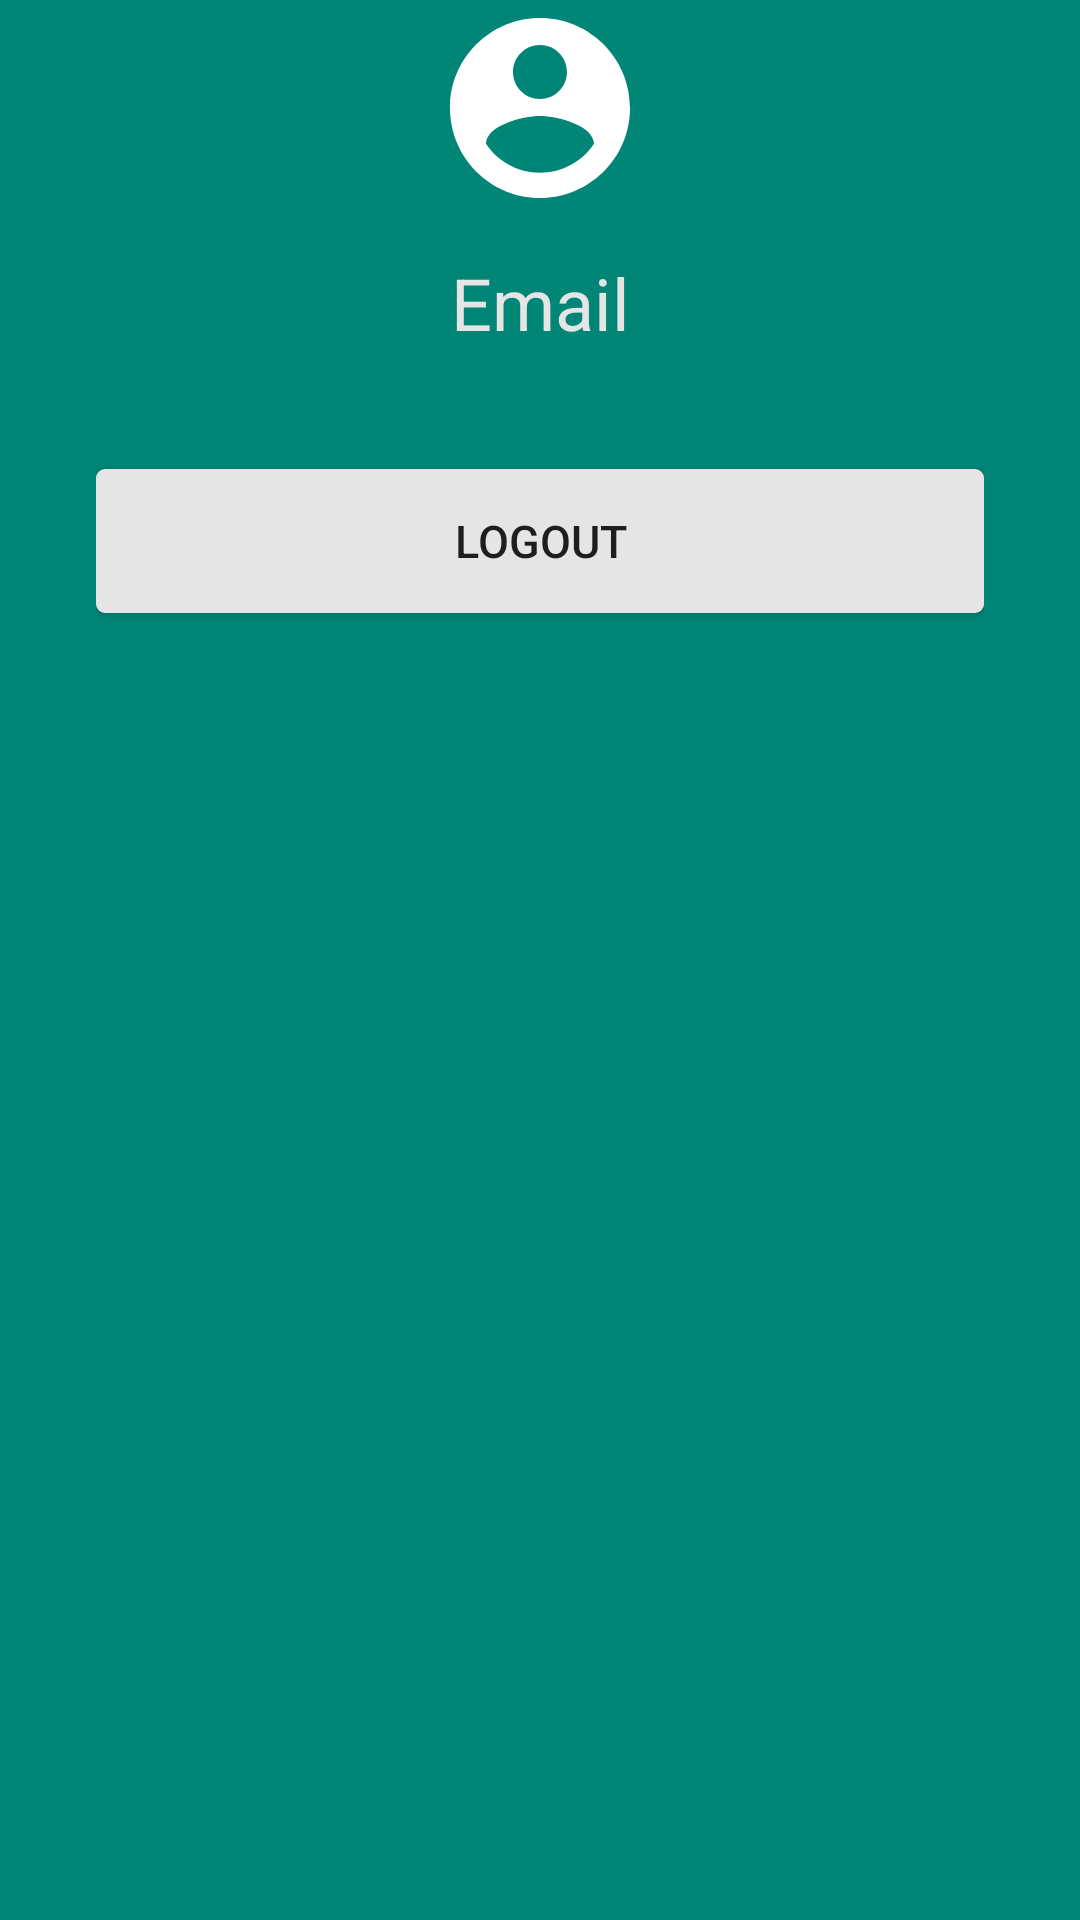

Icons on this 1080 × 1920 Android screen, each with its box as (x1, y1, x2, y2):
account: (449, 18, 630, 198)
